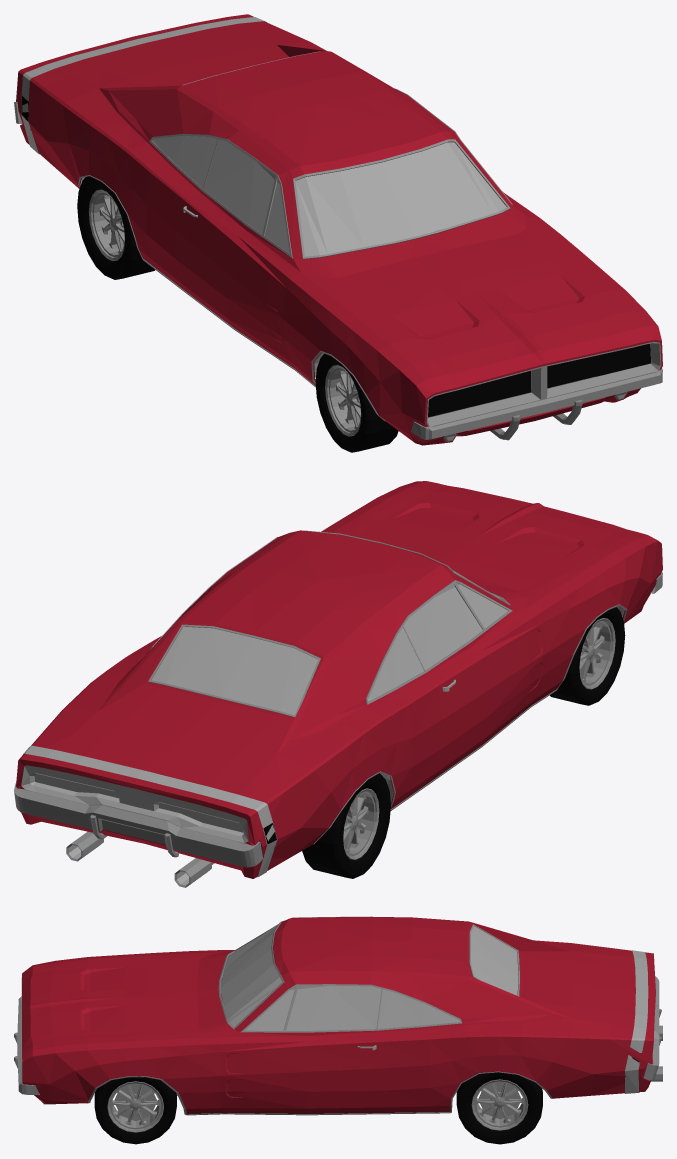
Rendered from charger.dae.
The picture shows the model from 3 angles, top to bottom: view 1: azimuth 30°, elevation 25°; view 2: azimuth 150°, elevation 25°; view 3: azimuth 270°, elevation 25°; orthographic projection. The views are drawn at different scales.
Visible parts, largest first — view 1: Plano, Plano_001, ___rculo_00 (×4), Plano_002, Plano_006, Plano_009, Plano_011, Plano_010, Cilindro; view 2: Plano, ___rculo_00 (×4), Plano_003, Plano_002, Plano_007, Plano_011, Plano_008, Cilindro_004; view 3: Plano, ___rculo_00 (×4), Plano_002, Plano_001, Plano_003, Plano_011, Plano_007, Plano_006, Cilindro_003, Cilindro_002.
Part boxes in pixels (x1,y1,x2,y2): Plano: (16, 14, 662, 445); Plano_001: (295, 142, 506, 256); ___rculo_00 (×4): (77, 176, 398, 452); Plano_002: (152, 136, 289, 253); Plano_006: (411, 368, 662, 439); Plano_009: (428, 356, 595, 417); Plano_011: (21, 17, 266, 153); Plano_010: (596, 344, 650, 376); Cilindro: (490, 399, 582, 440); Plano: (16, 481, 662, 878); ___rculo_00 (×4): (302, 607, 625, 878); Plano_003: (151, 626, 318, 715); Plano_002: (368, 582, 508, 701); Plano_007: (14, 782, 262, 867); Plano_011: (23, 745, 277, 877); Plano_008: (34, 774, 243, 832); Cilindro_004: (66, 831, 214, 887); Plano: (21, 916, 655, 1115); ___rculo_00 (×4): (94, 1072, 542, 1144); Plano_002: (245, 985, 459, 1030); Plano_001: (220, 925, 281, 1026); Plano_003: (471, 926, 518, 995); Plano_011: (625, 950, 648, 1093); Plano_007: (643, 976, 659, 1080); Plano_006: (17, 996, 39, 1094); Cilindro_003: (478, 1082, 521, 1119); Cilindro_002: (114, 1084, 157, 1121).
Size of the model in its own units: 0.9914 by 2.71 by 0.7182.
